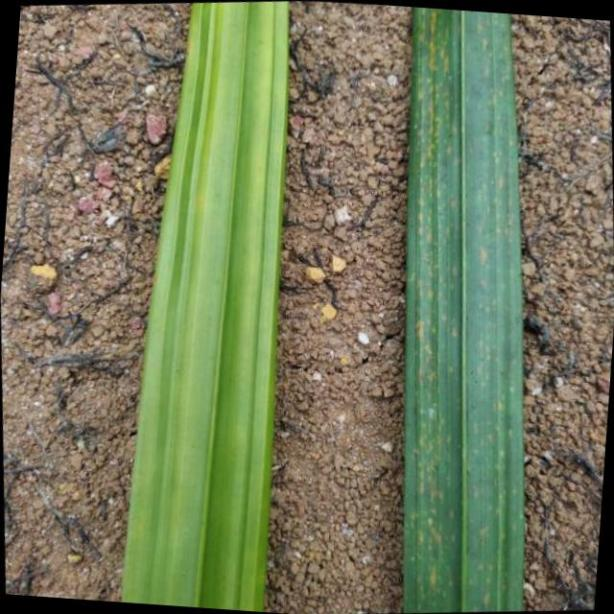nitrogen: (115, 0, 290, 614)
